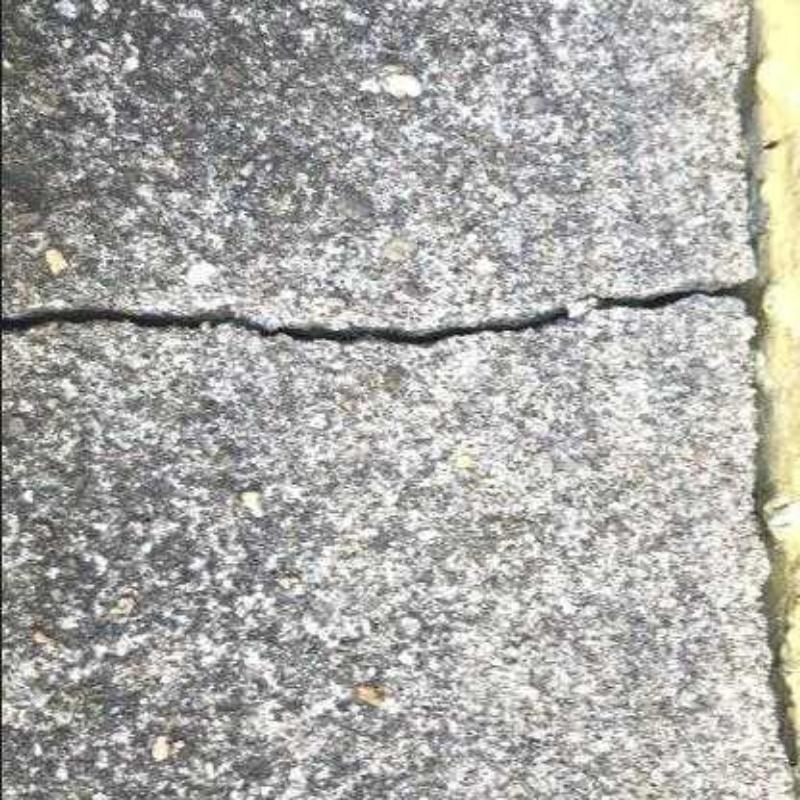crack: (2, 0, 799, 791)
